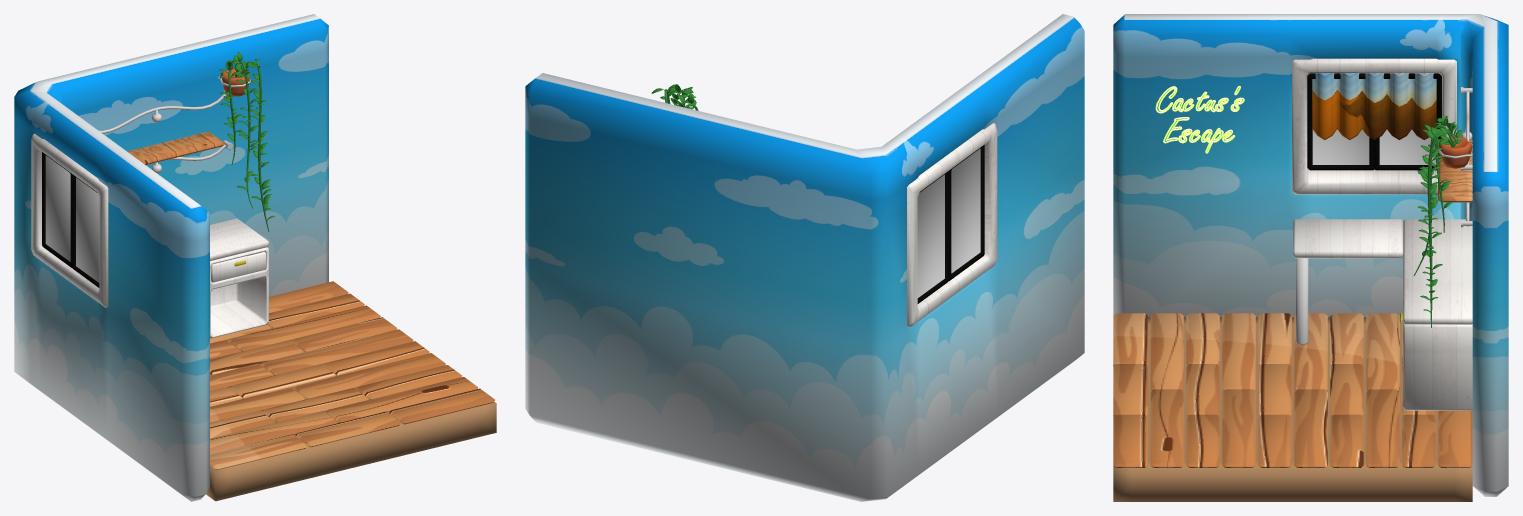
The model's file is room_scene_1.fbx.
3 views of the same model, side by side, from view 1: azimuth 30°, elevation 25°; view 2: azimuth 150°, elevation 25°; view 3: azimuth 270°, elevation 25° (orthographic). The views are drawn at different scales.
Visible parts, largest first — view 1: Pared, Parquet, Piso, Escritorio, VentanaMarco, Ventana2, Ventana1, Estante, PlantaColgante.001, EscritorioCajon, AdornoPared.001; view 2: Pared, VentanaMarco, Ventana1, Ventana2; view 3: Pared, Parquet, Escritorio, Piso, VentanaMarco, Cortinas, Ventana1, Ventana2, Text, Estante, PlantaColgante.001, PlantaColgante.
Boxes of the visible parts, left/top/right/bottom form: Pared: left=14, top=14, right=328, bottom=501; Parquet: left=210, top=281, right=494, bottom=470; Piso: left=206, top=326, right=496, bottom=501; Escritorio: left=210, top=218, right=268, bottom=338; VentanaMarco: left=31, top=133, right=108, bottom=307; Ventana2: left=42, top=152, right=72, bottom=268; Ventana1: left=72, top=174, right=99, bottom=287; Estante: left=127, top=131, right=224, bottom=164; PlantaColgante.001: left=228, top=61, right=269, bottom=231; EscritorioCajon: left=211, top=251, right=266, bottom=282; AdornoPared.001: left=98, top=90, right=227, bottom=133; Pared: left=525, top=14, right=1084, bottom=501; VentanaMarco: left=907, top=123, right=997, bottom=327; Ventana1: left=949, top=145, right=984, bottom=280; Ventana2: left=917, top=171, right=948, bottom=303; Pared: left=1113, top=14, right=1508, bottom=496; Parquet: left=1113, top=313, right=1472, bottom=467; Escritorio: left=1293, top=219, right=1472, bottom=410; Piso: left=1113, top=317, right=1472, bottom=501; VentanaMarco: left=1292, top=58, right=1456, bottom=194; Cortinas: left=1312, top=73, right=1436, bottom=139; Ventana1: left=1307, top=76, right=1374, bottom=170; Ventana2: left=1374, top=76, right=1441, bottom=170; Text: left=1155, top=85, right=1244, bottom=153; Estante: left=1438, top=138, right=1472, bottom=202; PlantaColgante.001: left=1413, top=124, right=1458, bottom=327; PlantaColgante: left=1438, top=137, right=1472, bottom=168.
Bounding box in the file's own units: 314 × 285 × 312.
